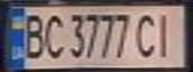3: (66, 10, 87, 58)
7: (112, 10, 136, 60), (97, 10, 118, 58), (81, 10, 100, 58)
B: (18, 10, 48, 61)
C: (133, 10, 160, 60), (42, 10, 66, 60)
I: (151, 9, 181, 60)
